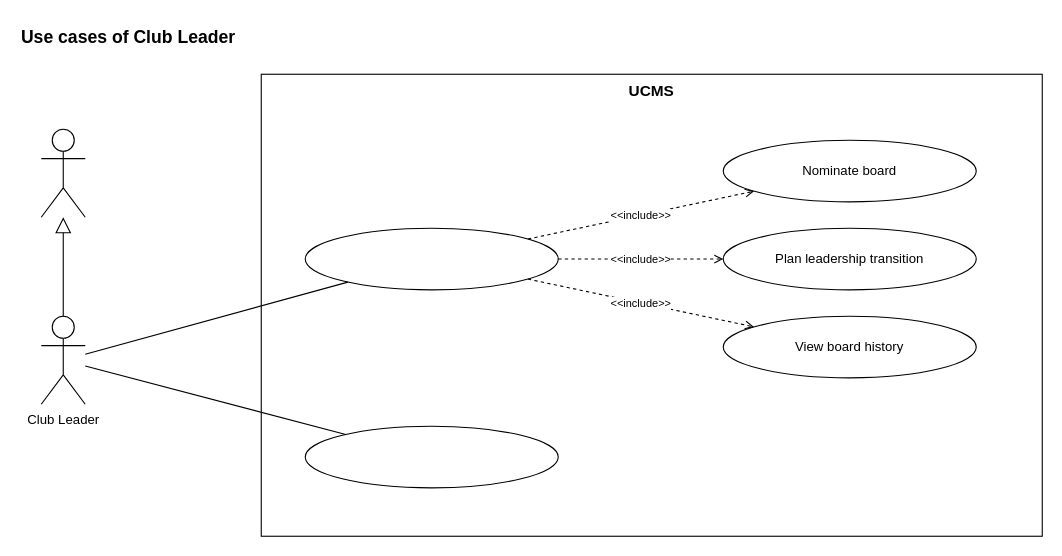
The diagram is 1062 pixels wide and 556 high, and some of its shapes have lost their labels. The centre of each missing label's shape, as x and y in pixels:
"Club Member" belongs at (62,172).
"Manage board" belongs at (431,258).
"Request suspension" belongs at (431,456).
